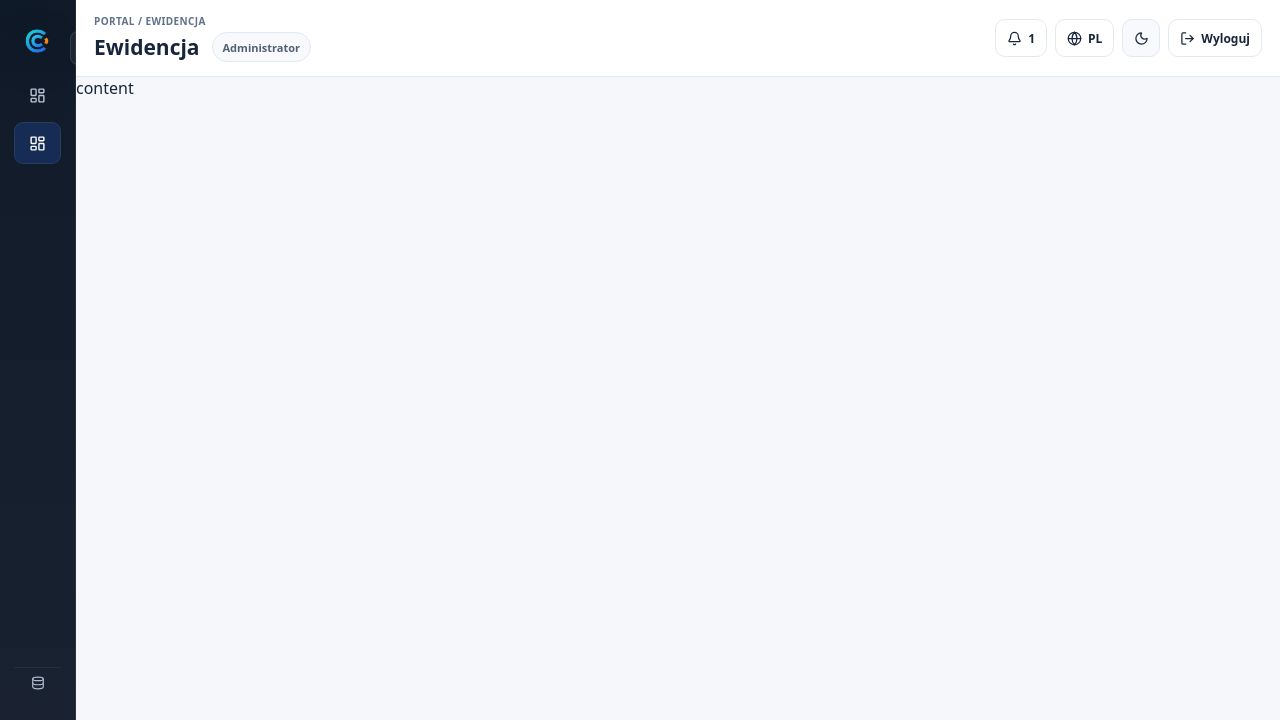
Test: AppShell › labels the notifications popover as a named region when opened
Click the button with class "topbar-icon-btn" showing "1" at (1021, 38), box [995,19,1047,57]
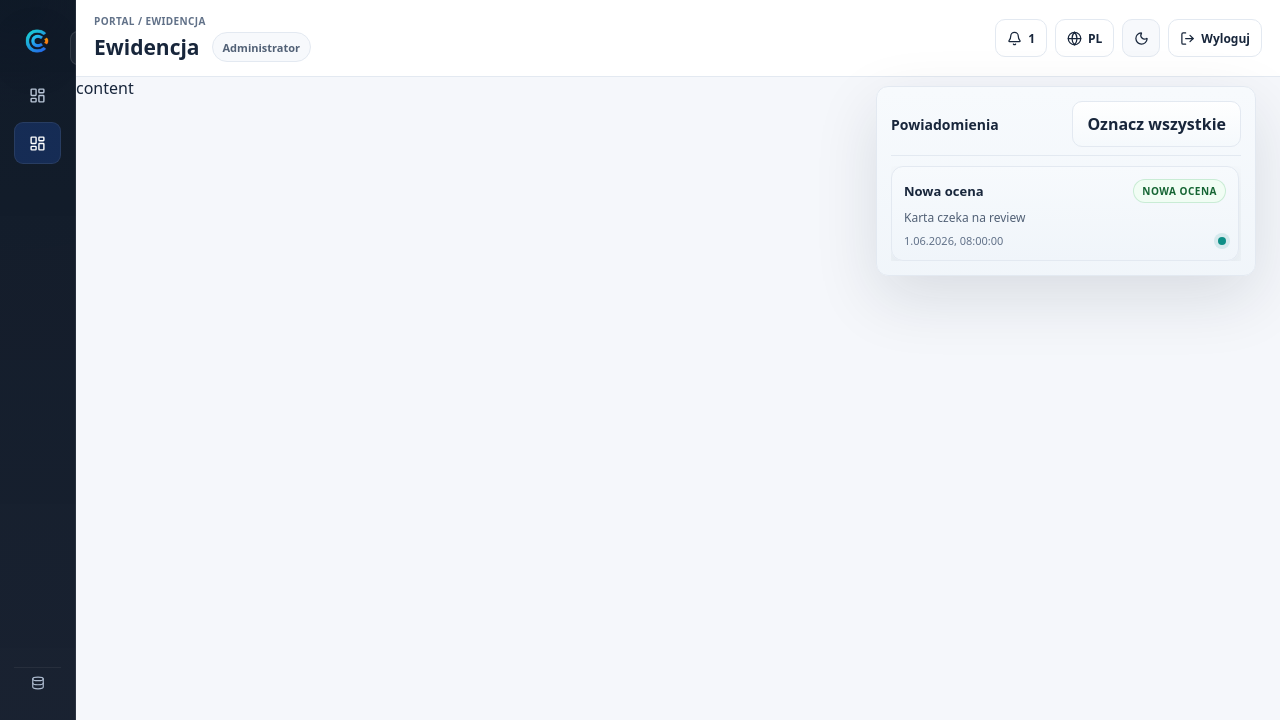
Check: the text with id "notifications-popover-title" reads "Powiadomienia", box [891,114,999,134]
